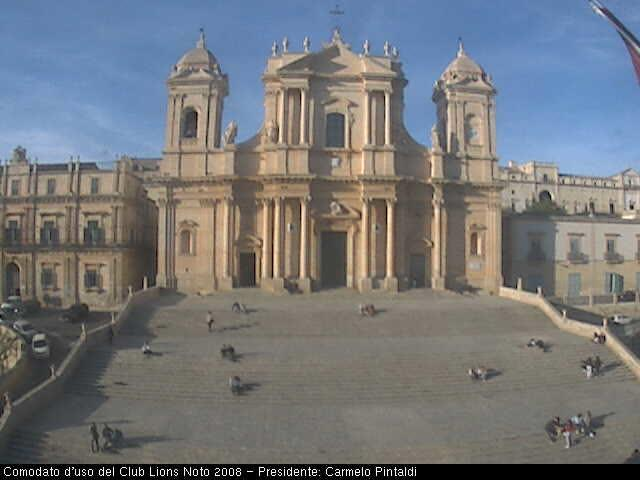person: (87, 421, 100, 454), (101, 424, 113, 454), (563, 419, 575, 446), (104, 324, 116, 348), (551, 414, 561, 441), (205, 310, 216, 334), (229, 374, 240, 397), (585, 410, 594, 437), (113, 428, 123, 452), (572, 414, 584, 434), (583, 356, 593, 379), (477, 364, 487, 384), (466, 365, 476, 384), (593, 357, 602, 378), (367, 302, 377, 319), (227, 344, 236, 361), (232, 301, 240, 319), (219, 343, 227, 361), (142, 340, 151, 356), (528, 337, 536, 355), (537, 339, 546, 355), (359, 302, 367, 319), (240, 304, 249, 318), (593, 331, 599, 344), (599, 333, 605, 345)
